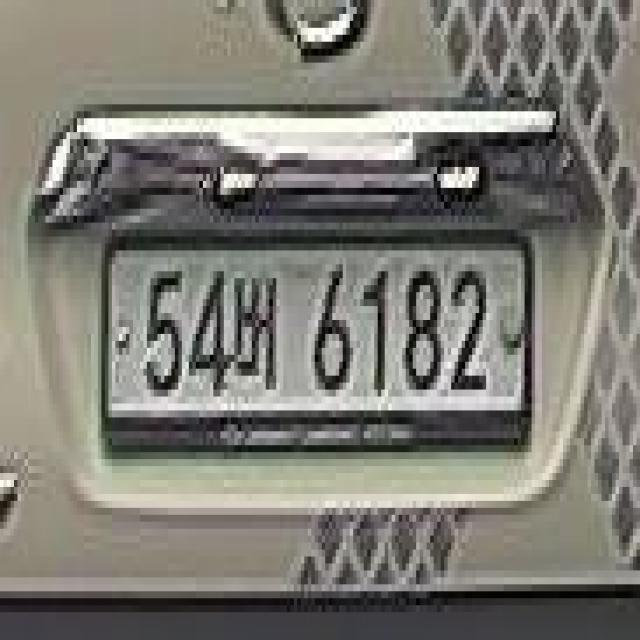1: (356, 260, 394, 394)
2: (449, 260, 492, 396)
4: (190, 264, 232, 394)
5: (145, 264, 186, 396)
6: (309, 263, 354, 392)
8: (398, 260, 446, 395)
beo: (234, 262, 281, 394)
license_plate: (99, 223, 538, 450)
